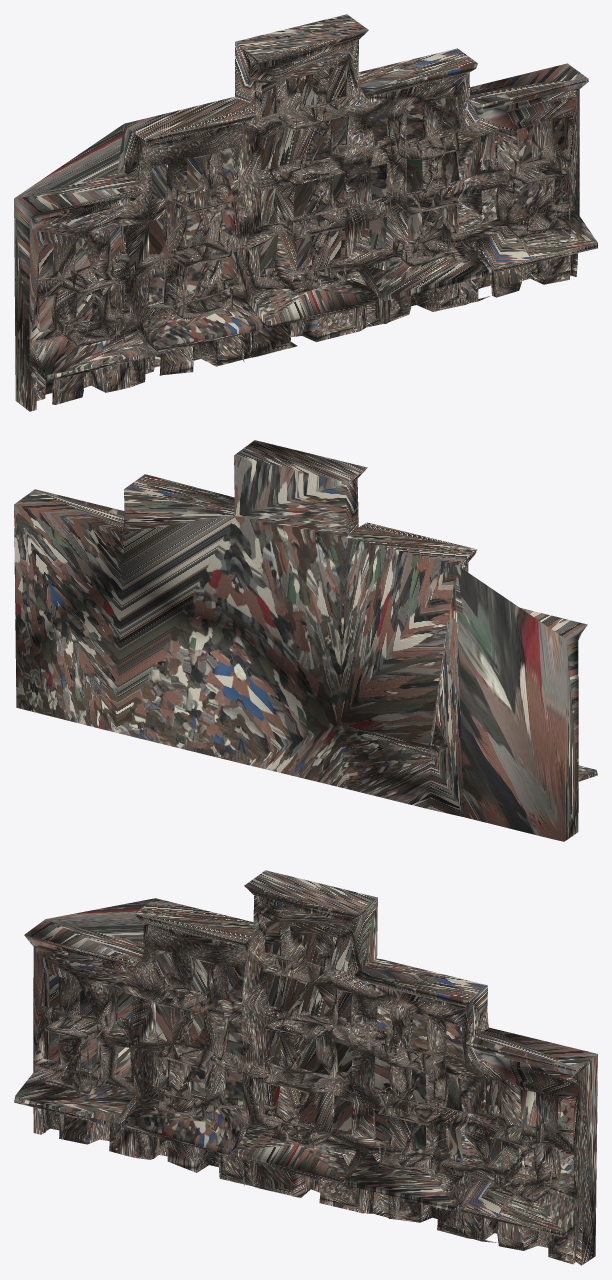
The model's file is row_five_c_hq_lod.glb.
The picture shows the model from 3 angles, top to bottom: view 1: azimuth 30°, elevation 25°; view 2: azimuth 150°, elevation 25°; view 3: azimuth 330°, elevation 25°; orthographic projection.
Bounding box in the file's own units: 32 × 17 × 3.49.
1 material, 1 textured.
